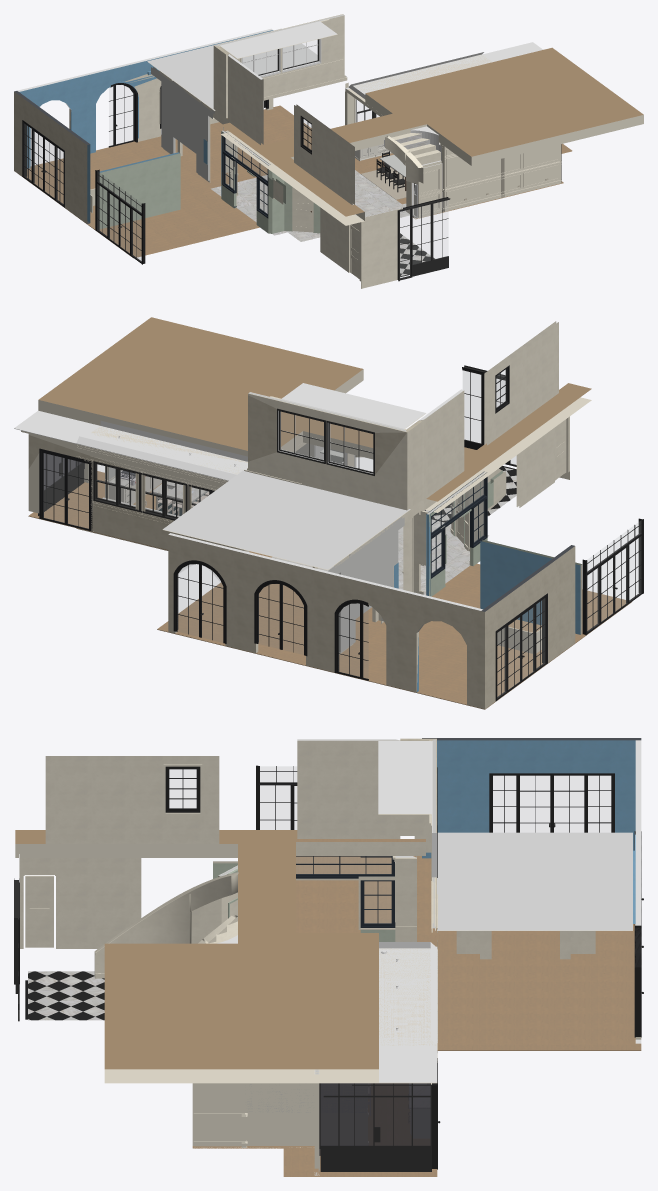
Rendered from kitchen-4857d859c56f.glb.
3 views of the same model, one above another, from view 1: azimuth 30°, elevation 25°; view 2: azimuth 150°, elevation 25°; view 3: azimuth 270°, elevation 25° (orthographic). The views are drawn at different scales.
Parts seen in each view (by area): view 1: kitchen-look-2575515a05775d9e, kitchen-look-3b0077416469e01b, kitchen-look-969b861f9850351e, kitchen-look-b19b106fc304963c, kitchen-19647d6da46c2b80, kitchen-look-039192b0560cfac3, kitchen-look-698abdfdc6fb970d, kitchen-look-4a969f5cc1ae3dfe, kitchen-look-746250f96522f643, kitchen-look-55ff1dfd7b659ec1, kitchen-look-08d72923bcfd3529, kitchen-look-245f595ae2832e16 (+29 smaller); view 2: kitchen-look-2575515a05775d9e, kitchen-look-969b861f9850351e, kitchen-look-3b0077416469e01b, kitchen-look-4a969f5cc1ae3dfe, kitchen-look-245f595ae2832e16, kitchen-look-039192b0560cfac3, kitchen-look-746250f96522f643, kitchen-bfb9fa537cd11d1d, kitchen-look-08d72923bcfd3529, kitchen-look-b57b1dfcc6ff1bca, kitchen-look-7f59123d155b94ce, kitchen-look-9fbf623a647a21dd (+30 smaller); view 3: kitchen-look-2575515a05775d9e, kitchen-look-3b0077416469e01b, kitchen-look-4a969f5cc1ae3dfe, kitchen-look-746250f96522f643, kitchen-look-039192b0560cfac3, kitchen-look-7f59123d155b94ce, kitchen-look-85f0fd939e0fcc78, kitchen-look-9fbf623a647a21dd, kitchen-look-cbd4bf73d9724a66, kitchen-9a0e9ee9b2a451d7, kitchen-look-9d91b47435c6fb33, kitchen-5b6bbac285e58726 (+25 smaller).
Boxes of the visible parts, left/top/right/bottom form: kitchen-look-2575515a05775d9e: left=221, top=47, right=643, bottom=225; kitchen-look-3b0077416469e01b: left=14, top=105, right=572, bottom=257; kitchen-look-969b861f9850351e: left=17, top=28, right=273, bottom=168; kitchen-look-b19b106fc304963c: left=99, top=152, right=180, bottom=229; kitchen-19647d6da46c2b80: left=444, top=144, right=560, bottom=207; kitchen-look-039192b0560cfac3: left=14, top=91, right=90, bottom=223; kitchen-look-698abdfdc6fb970d: left=397, top=197, right=450, bottom=281; kitchen-look-4a969f5cc1ae3dfe: left=147, top=28, right=346, bottom=110; kitchen-look-746250f96522f643: left=294, top=104, right=354, bottom=205; kitchen-look-55ff1dfd7b659ec1: left=151, top=67, right=214, bottom=180; kitchen-look-08d72923bcfd3529: left=95, top=169, right=145, bottom=264; kitchen-look-245f595ae2832e16: left=213, top=14, right=344, bottom=108; kitchen-look-2575515a05775d9e: left=38, top=317, right=591, bottom=512; kitchen-look-969b861f9850351e: left=168, top=533, right=482, bottom=707; kitchen-look-3b0077416469e01b: left=28, top=471, right=631, bottom=709; kitchen-look-4a969f5cc1ae3dfe: left=162, top=470, right=410, bottom=570; kitchen-look-245f595ae2832e16: left=248, top=392, right=407, bottom=510; kitchen-look-039192b0560cfac3: left=481, top=545, right=575, bottom=708; kitchen-look-746250f96522f643: left=484, top=321, right=558, bottom=445; kitchen-bfb9fa537cd11d1d: left=76, top=444, right=246, bottom=551; kitchen-look-08d72923bcfd3529: left=582, top=518, right=643, bottom=635; kitchen-look-b57b1dfcc6ff1bca: left=173, top=560, right=226, bottom=643; kitchen-look-7f59123d155b94ce: left=418, top=389, right=464, bottom=511; kitchen-look-9fbf623a647a21dd: left=495, top=593, right=547, bottom=701; kitchen-look-2575515a05775d9e: left=15, top=830, right=378, bottom=1083; kitchen-look-3b0077416469e01b: left=283, top=856, right=641, bottom=1176; kitchen-look-4a969f5cc1ae3dfe: left=437, top=832, right=632, bottom=930; kitchen-look-746250f96522f643: left=45, top=756, right=219, bottom=843; kitchen-look-039192b0560cfac3: left=422, top=738, right=641, bottom=858; kitchen-look-7f59123d155b94ce: left=297, top=739, right=400, bottom=838; kitchen-look-85f0fd939e0fcc78: left=19, top=858, right=141, bottom=948; kitchen-look-9fbf623a647a21dd: left=489, top=773, right=614, bottom=832; kitchen-look-cbd4bf73d9724a66: left=319, top=1083, right=430, bottom=1155; kitchen-9a0e9ee9b2a451d7: left=379, top=948, right=436, bottom=1045; kitchen-look-9d91b47435c6fb33: left=378, top=741, right=431, bottom=814; kitchen-5b6bbac285e58726: left=246, top=1083, right=314, bottom=1147.
Size of the model in its own units: 20.89 by 6.36 by 16.86.
63 materials, 13 textured.
